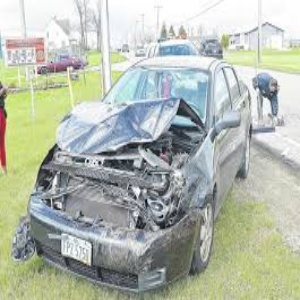bonnet: (56, 94, 188, 155)
